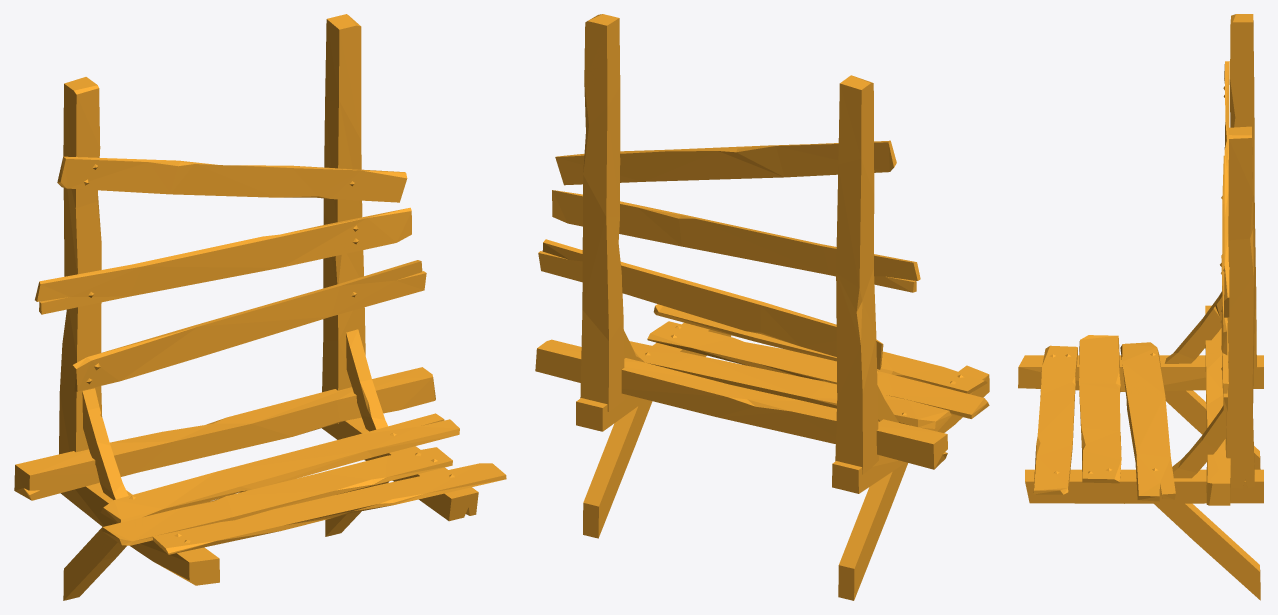
The model's file is SM_Scaffolding_B_Fantasy.fbx.
3 views of the same model, side by side, from view 1: azimuth 30°, elevation 25°; view 2: azimuth 150°, elevation 25°; view 3: azimuth 270°, elevation 25° (orthographic). The views are drawn at different scales.
Parts seen in each view (by area): view 1: SM_Scaffolding_B_Fantasy; view 2: SM_Scaffolding_B_Fantasy; view 3: SM_Scaffolding_B_Fantasy.
Boxes of the visible parts, x1,y1,x2,y2 form: SM_Scaffolding_B_Fantasy: (14, 14, 506, 600); SM_Scaffolding_B_Fantasy: (535, 14, 989, 600); SM_Scaffolding_B_Fantasy: (1018, 14, 1263, 600).
Bounding box in the file's own units: 3.18 × 3.88 × 1.86.
